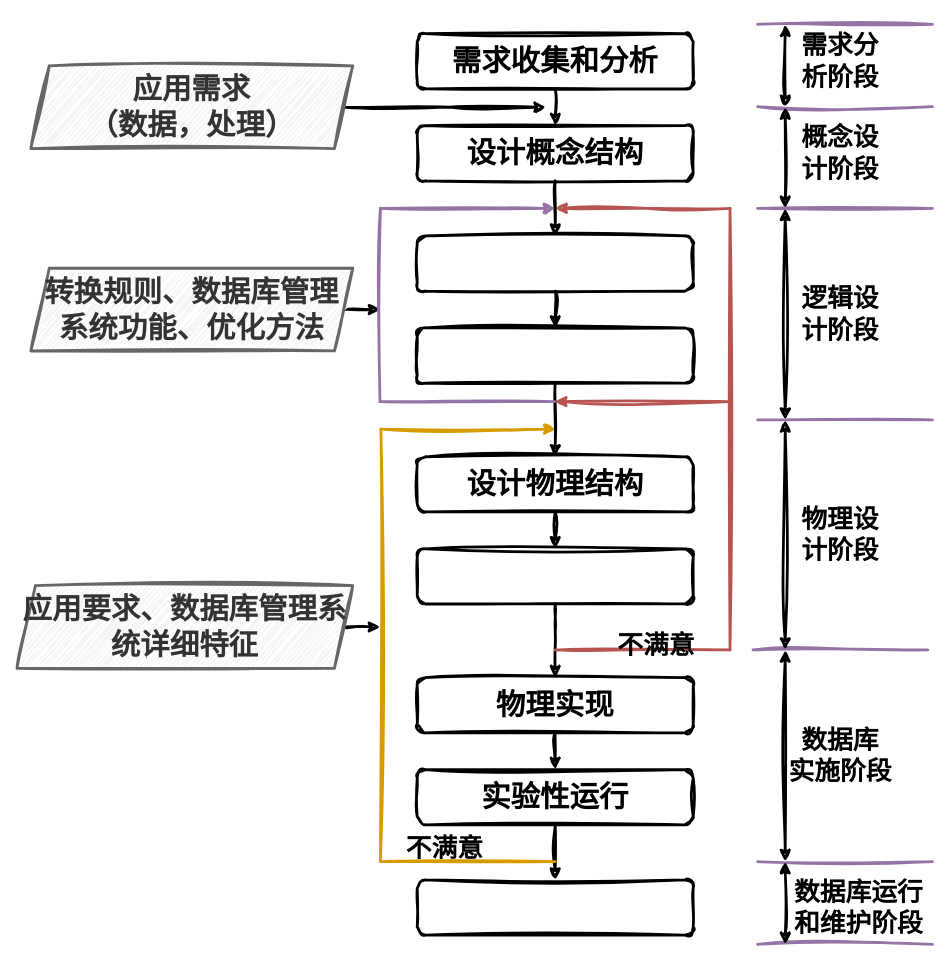
Some shapes in this 950 by 970 pixel diagram are drawn without their labels. Each missing label, with the centre of its shape:
使用、维护数据库: (554,907)
数据模型优化: (554,355)
设计逻辑结构: (554,263)
评价设计，性能预测: (554,576)
